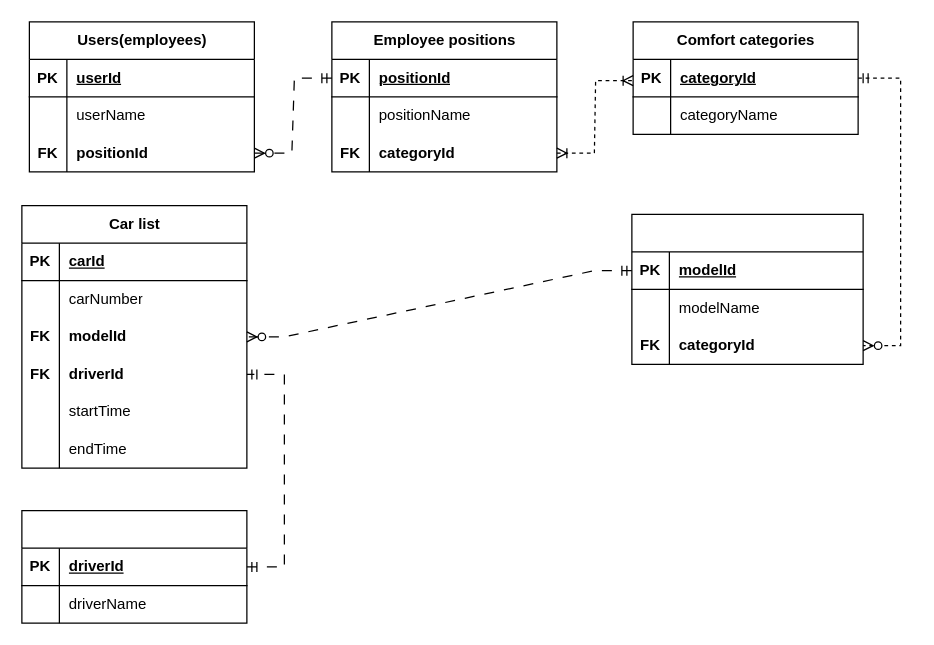
Image size: 934x645. Some labels were removed from this diagram. The shapes that lost their labels are listed below. From the top down, each one's box as (x1, y1, x2, y2) in pixels, then its label:
(631, 213, 863, 364): Car models
(21, 509, 247, 623): Drivers
